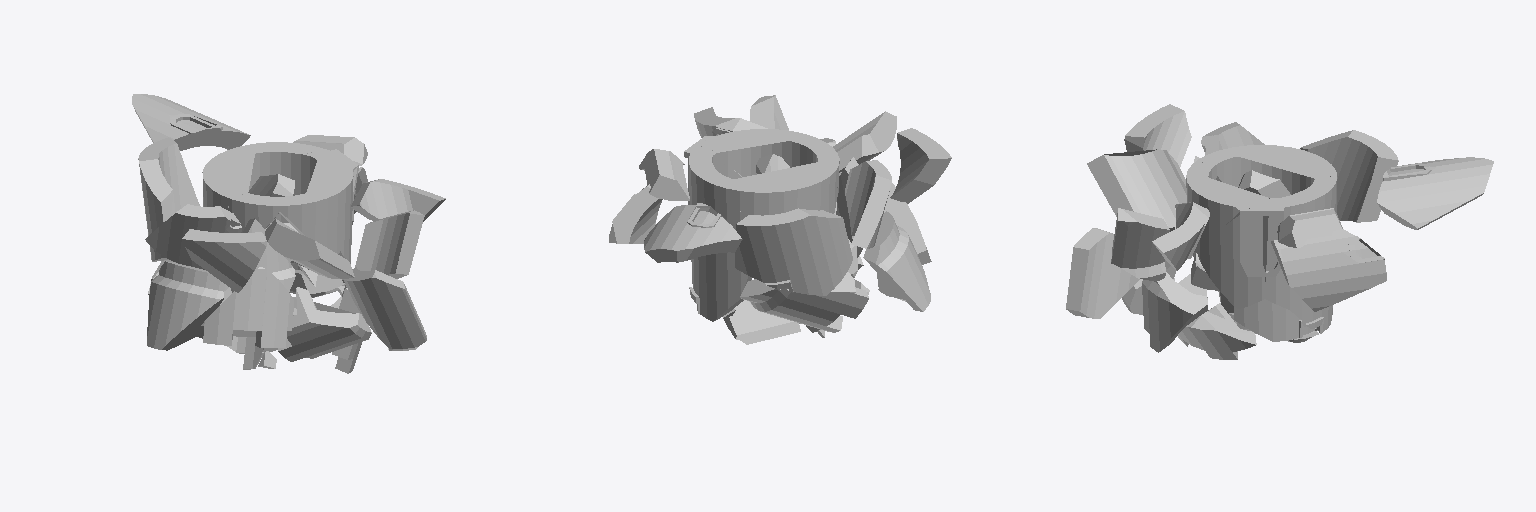
Rendered from destruction_tower_000048.obj.
3 renders of one model, left to right at view 1: azimuth 30°, elevation 25°; view 2: azimuth 150°, elevation 25°; view 3: azimuth 270°, elevation 25°, orthographic.
Visible parts, largest first — view 1: tower.001_cell.005_Mesh.005, tower.001_cell.006_Mesh.006, tower.001_cell.028_Mesh.028, tower.001_cell.021_Mesh.021, tower.001_cell.011_Mesh.011, tower.001_cell.003_Mesh.003, tower.001_cell.025_Mesh.025, tower.001_cell.002_Mesh.002, tower.001_cell_Mesh, tower.001_cell.009_Mesh.009, tower.001_cell.010_Mesh.010, tower.001_cell.024_Mesh.024 (+10 smaller); view 2: tower.001_cell.003_Mesh.003, tower.001_cell.017_Mesh.017, tower.001_cell.015_Mesh.015, tower.001_cell.025_Mesh.025, tower.001_cell.007_Mesh.007, tower.001_cell.005_Mesh.005, tower.001_cell.028_Mesh.028, tower.001_cell.009_Mesh.009, tower.001_cell.002_Mesh.002, tower.001_cell.024_Mesh.024, tower.001_cell.012_Mesh.012, tower.001_cell.029_Mesh.029 (+6 smaller); view 3: tower.001_cell.012_Mesh.012, tower.001_cell.025_Mesh.025, tower.001_cell.024_Mesh.024, tower.001_cell.020_Mesh.020, tower.001_cell.003_Mesh.003, tower.001_cell.021_Mesh.021, tower.001_cell.023_Mesh.023, tower.001_cell_Mesh, tower.001_cell.015_Mesh.015, tower.001_cell.028_Mesh.028, tower.001_cell.030_Mesh.030, tower.001_cell.002_Mesh.002 (+9 smaller).
Part boxes in pixels (left/top/right/bottom): tower.001_cell.005_Mesh.005: left=147, top=261, right=225, bottom=350; tower.001_cell.006_Mesh.006: left=201, top=267, right=293, bottom=347; tower.001_cell.028_Mesh.028: left=275, top=160, right=358, bottom=253; tower.001_cell.021_Mesh.021: left=342, top=267, right=426, bottom=350; tower.001_cell.011_Mesh.011: left=278, top=287, right=371, bottom=361; tower.001_cell.003_Mesh.003: left=138, top=137, right=199, bottom=261; tower.001_cell.025_Mesh.025: left=132, top=94, right=250, bottom=150; tower.001_cell.002_Mesh.002: left=182, top=229, right=266, bottom=292; tower.001_cell_Mesh: left=355, top=210, right=424, bottom=278; tower.001_cell.009_Mesh.009: left=145, top=204, right=241, bottom=269; tower.001_cell.010_Mesh.010: left=351, top=179, right=445, bottom=221; tower.001_cell.024_Mesh.024: left=265, top=219, right=354, bottom=278; tower.001_cell.003_Mesh.003: left=735, top=208, right=852, bottom=295; tower.001_cell.017_Mesh.017: left=689, top=156, right=751, bottom=321; tower.001_cell.015_Mesh.015: left=729, top=162, right=837, bottom=217; tower.001_cell.025_Mesh.025: left=644, top=203, right=742, bottom=262; tower.001_cell.007_Mesh.007: left=740, top=272, right=868, bottom=332; tower.001_cell.005_Mesh.005: left=863, top=211, right=930, bottom=311; tower.001_cell.028_Mesh.028: left=705, top=129, right=826, bottom=177; tower.001_cell.009_Mesh.009: left=845, top=160, right=891, bottom=248; tower.001_cell.002_Mesh.002: left=890, top=128, right=951, bottom=203; tower.001_cell.024_Mesh.024: left=833, top=111, right=896, bottom=175; tower.001_cell.012_Mesh.012: left=609, top=184, right=662, bottom=243; tower.001_cell.029_Mesh.029: left=723, top=300, right=800, bottom=344; tower.001_cell.012_Mesh.012: left=1271, top=229, right=1386, bottom=311; tower.001_cell.025_Mesh.025: left=1377, top=157, right=1493, bottom=229; tower.001_cell.024_Mesh.024: left=1087, top=149, right=1186, bottom=231; tower.001_cell.020_Mesh.020: left=1197, top=205, right=1268, bottom=308; tower.001_cell.003_Mesh.003: left=1300, top=130, right=1398, bottom=222; tower.001_cell.021_Mesh.021: left=1066, top=228, right=1139, bottom=318; tower.001_cell.023_Mesh.023: left=1142, top=272, right=1207, bottom=352; tower.001_cell_Mesh: left=1111, top=208, right=1169, bottom=280; tower.001_cell.015_Mesh.015: left=1238, top=145, right=1336, bottom=194; tower.001_cell.028_Mesh.028: left=1186, top=162, right=1269, bottom=251; tower.001_cell.030_Mesh.030: left=1178, top=303, right=1256, bottom=359; tower.001_cell.002_Mesh.002: left=1124, top=104, right=1191, bottom=166.
Bounding box in the file's own units: 86.36 × 56.16 × 121.